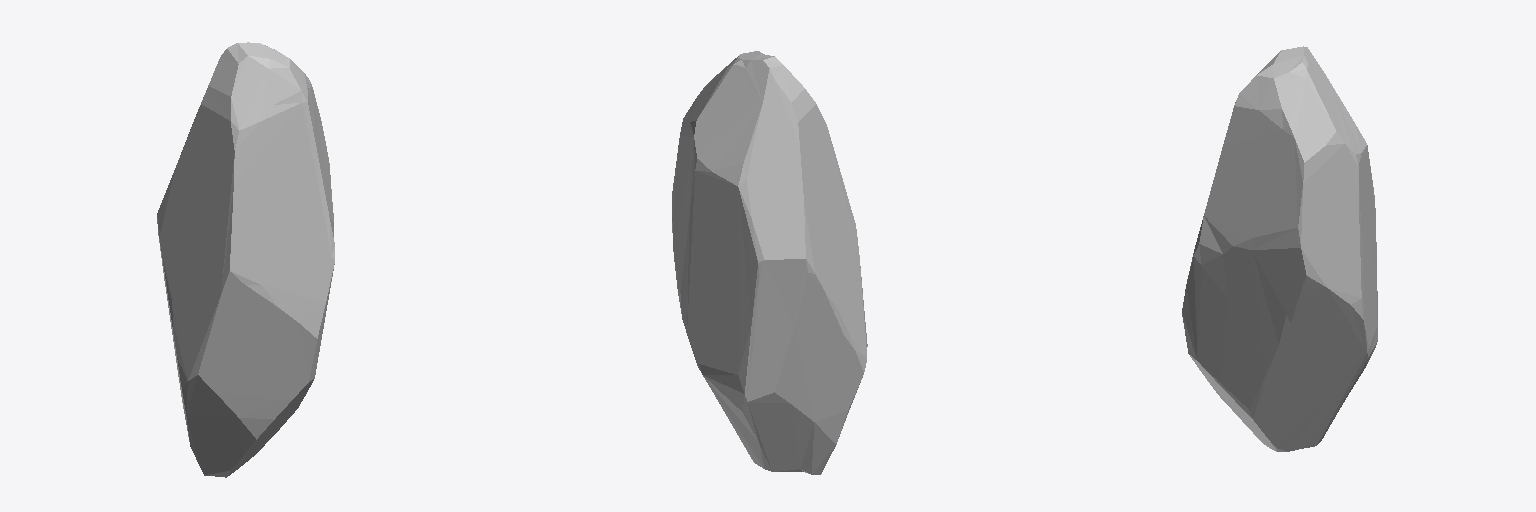
The model's file is rock7.obj.
3 views of the same model, side by side, from view 1: azimuth 30°, elevation 25°; view 2: azimuth 150°, elevation 25°; view 3: azimuth 270°, elevation 25° (orthographic).
Parts seen in each view (by area): view 1: Stone_18_Sphere.016; view 2: Stone_18_Sphere.016; view 3: Stone_18_Sphere.016.
Part boxes in pixels (bbox=[...]): Stone_18_Sphere.016: bbox=[157, 42, 334, 477]; Stone_18_Sphere.016: bbox=[672, 51, 867, 474]; Stone_18_Sphere.016: bbox=[1182, 46, 1377, 451].
Size of the model in its own units: 1.75 by 4.05 by 1.75.